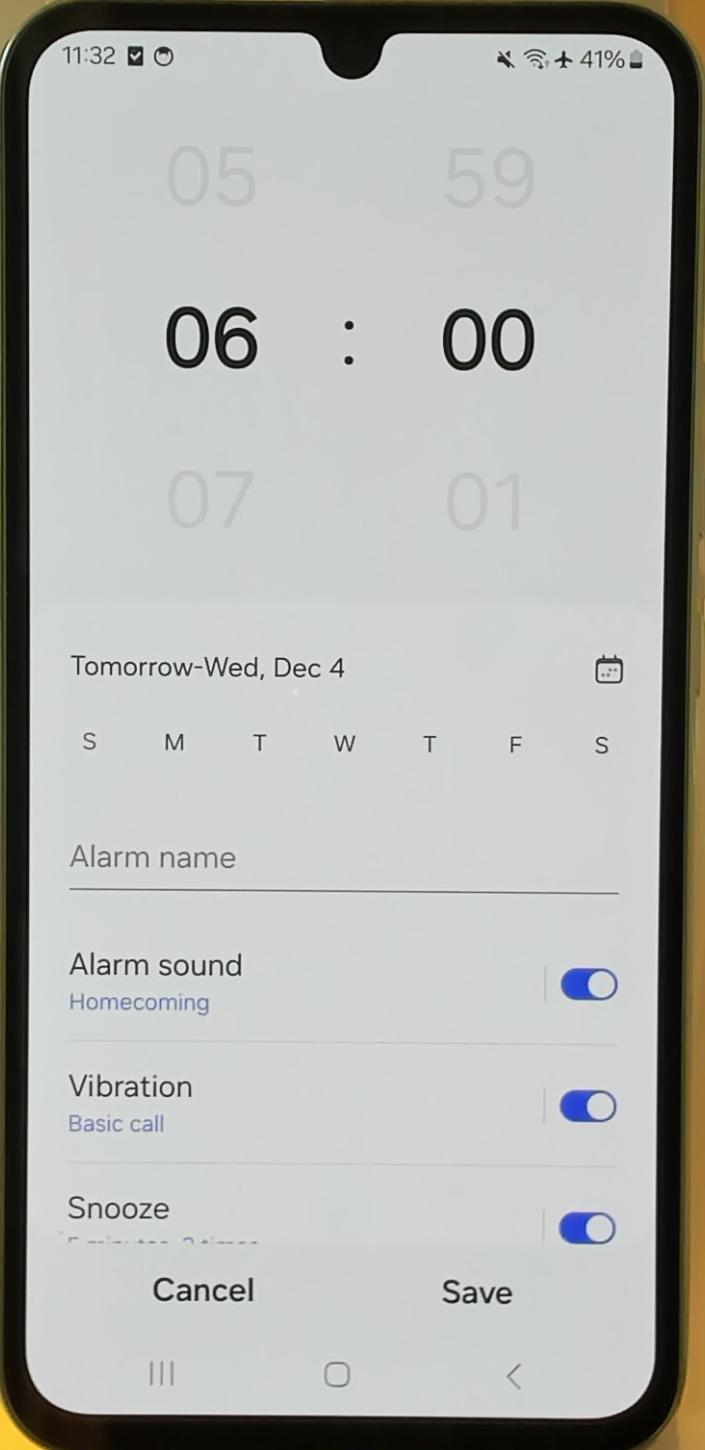Checkbox: (54, 936, 628, 1020), (54, 1176, 622, 1260), (58, 1060, 620, 1140)
CommunBotton: (148, 1268, 266, 1312), (434, 1266, 514, 1318), (52, 702, 112, 766), (494, 1346, 546, 1402), (138, 1344, 188, 1402), (578, 716, 624, 776), (146, 710, 196, 764), (318, 712, 364, 770), (310, 1346, 362, 1396), (406, 716, 450, 772), (238, 710, 280, 764), (496, 718, 538, 768)
